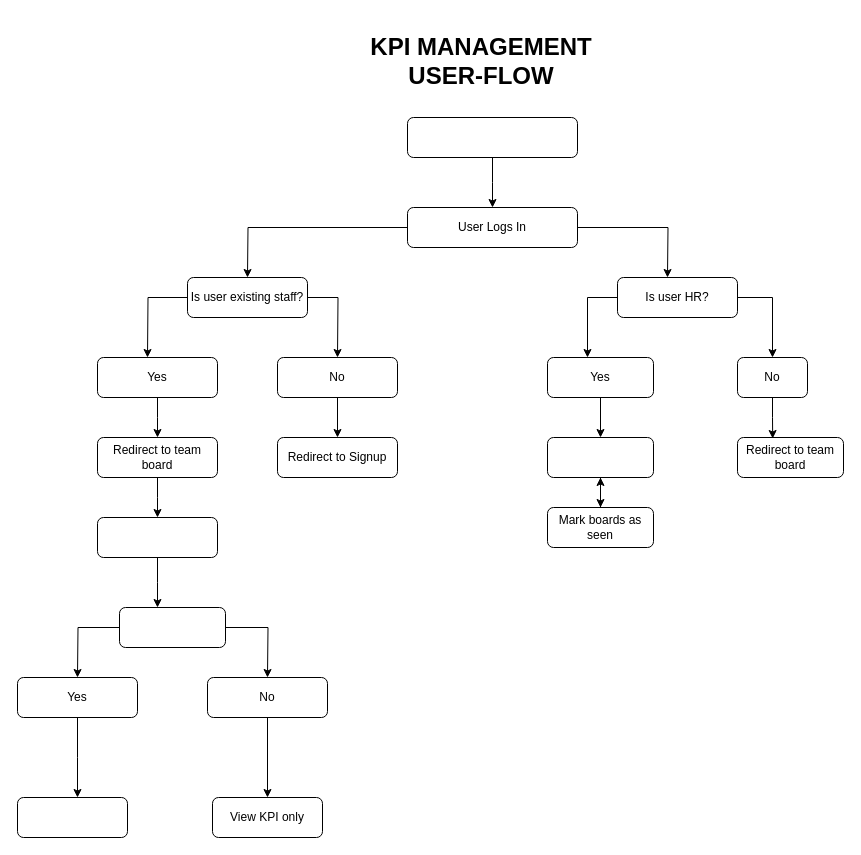
This 861x855 diagram has some shape labels left out. The box of each missing label's shape, as (x1, y1, x2, y2) in pixels:
Is user a team lead?: (118, 606, 226, 648)
user arrives landing page: (406, 116, 578, 158)
View All Boards: (546, 436, 654, 478)
View KPI: (96, 516, 218, 558)
View, Create, Edit & Delete KPI: (16, 796, 128, 838)
